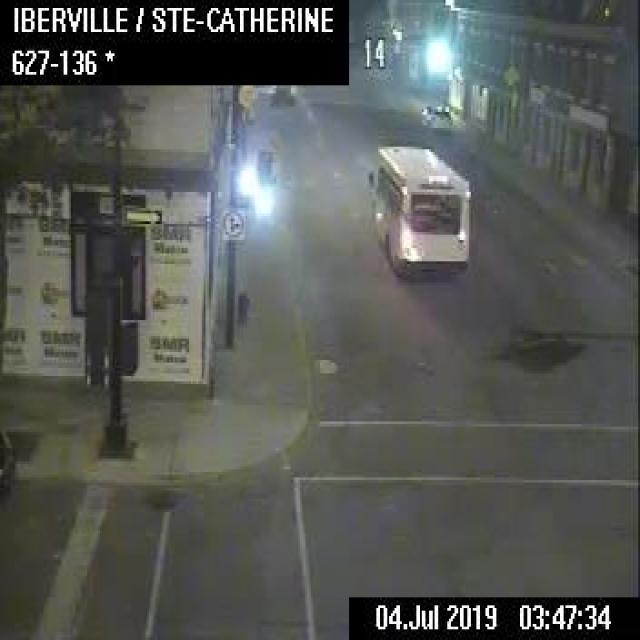bus: (367, 141, 471, 275)
vehicle: (0, 424, 15, 493), (418, 101, 450, 132)
